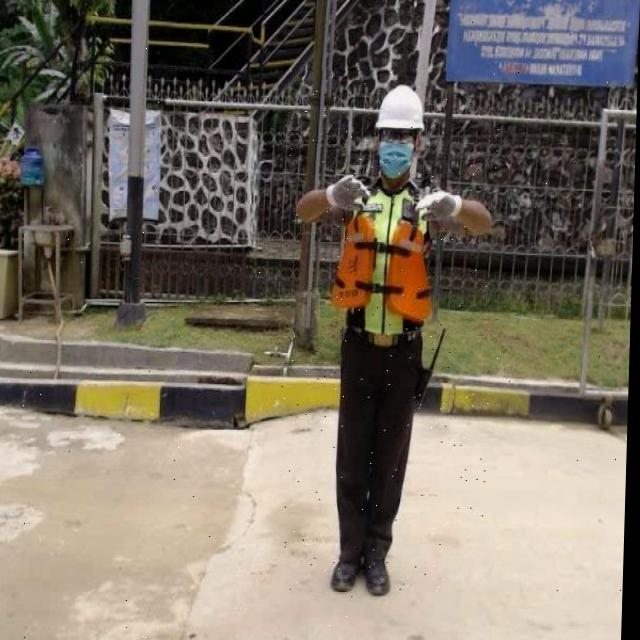Gloves: (417, 189, 464, 224), (328, 174, 373, 210)
Helmet: (378, 88, 427, 132)
Safety-Vest: (332, 181, 439, 334)
